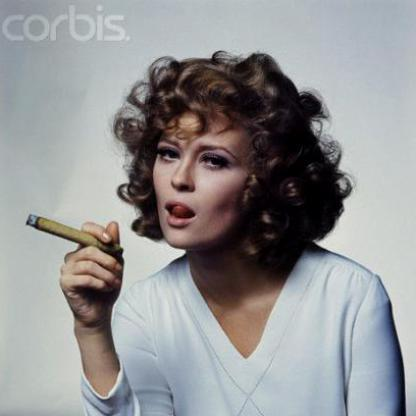cigarette: (25, 213, 120, 256)
person: (110, 61, 402, 415)
